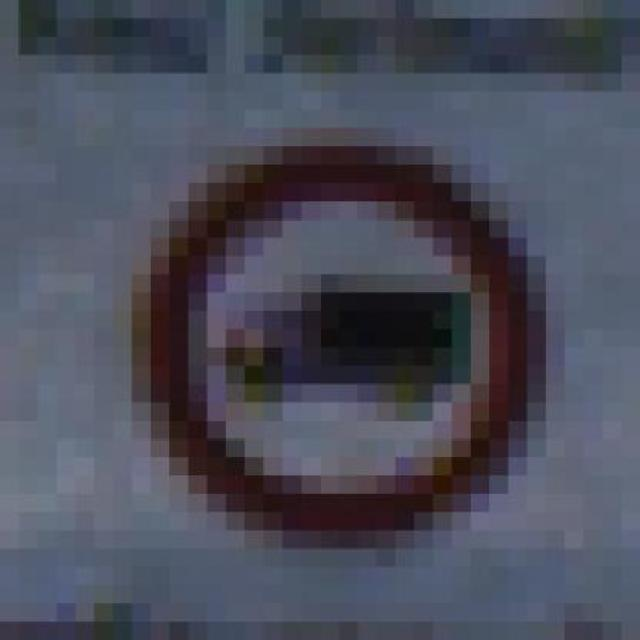Truck traffic is prohibited: (94, 110, 583, 567)
